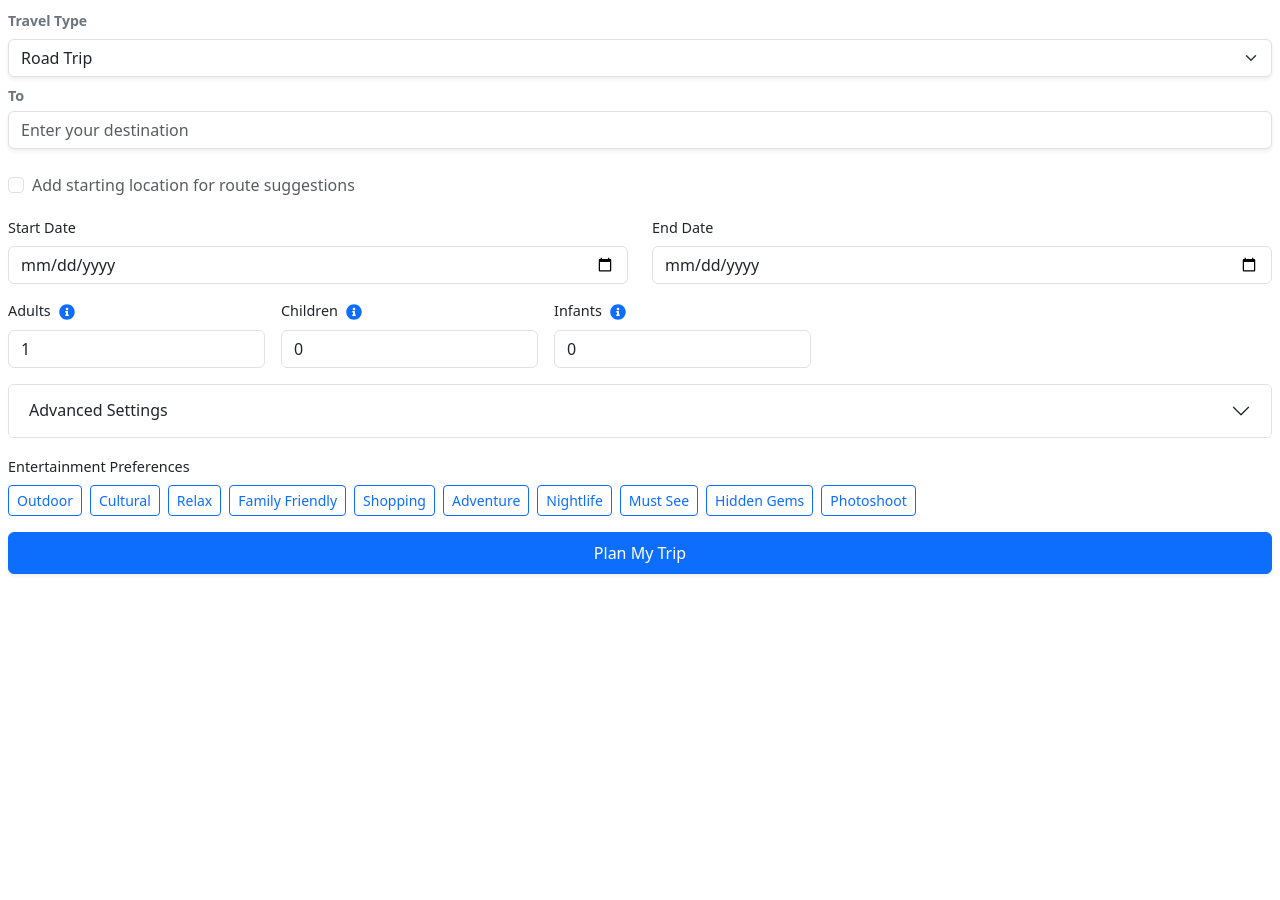
it: Distance Filter Integration Tests › Distance Slider Visibility › should show distance slider when origin field is enabled
# Enable origin field
Step 1. Click the checkbox labelled "Add starting location for route suggestions" → (16, 185), box 8,177 -> 24,193
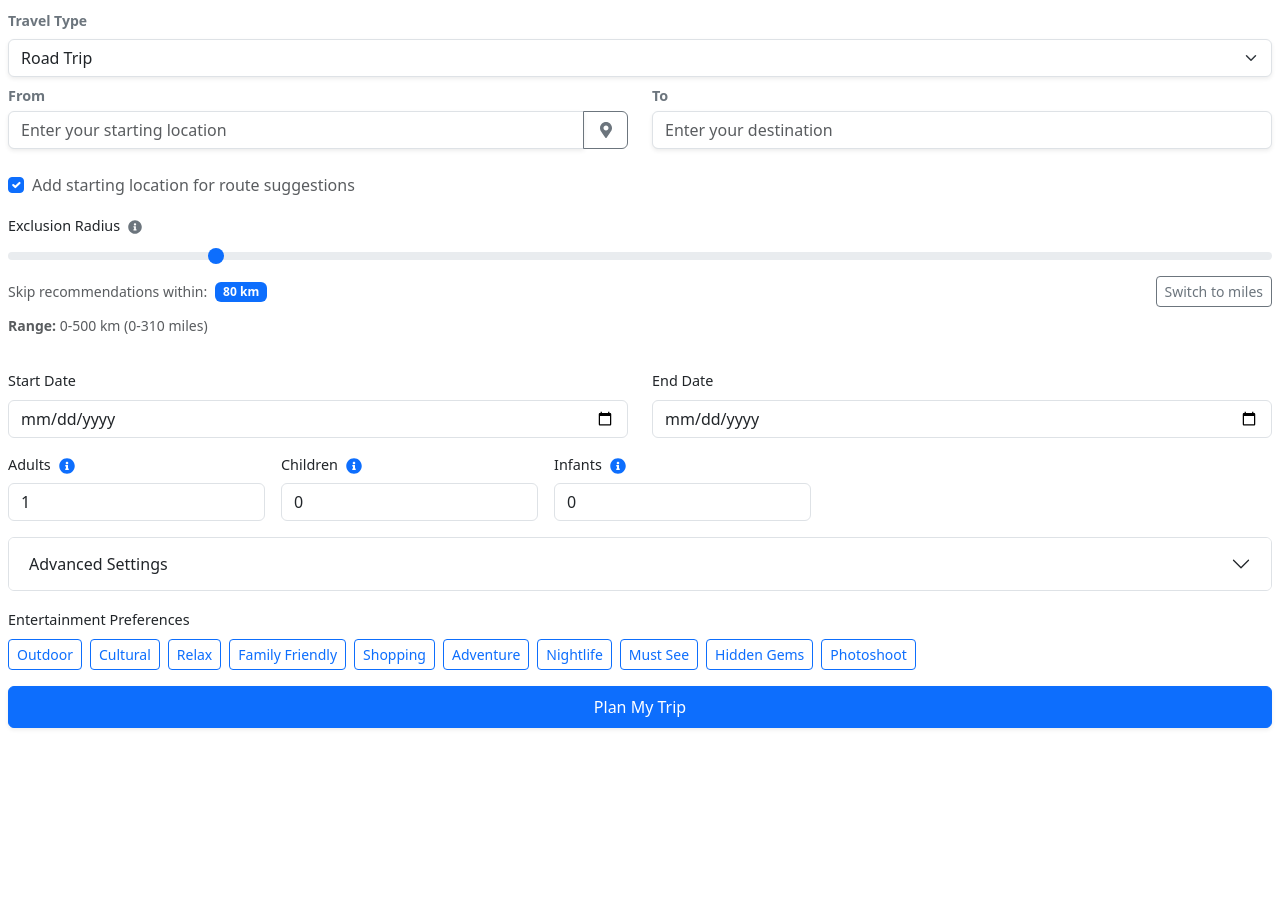
Result: the element with test id "distance-filter-container" is shown at 8,215 -> 1272,336
Result: the slider with test id "distance-slider" is shown at 8,244 -> 1272,268
